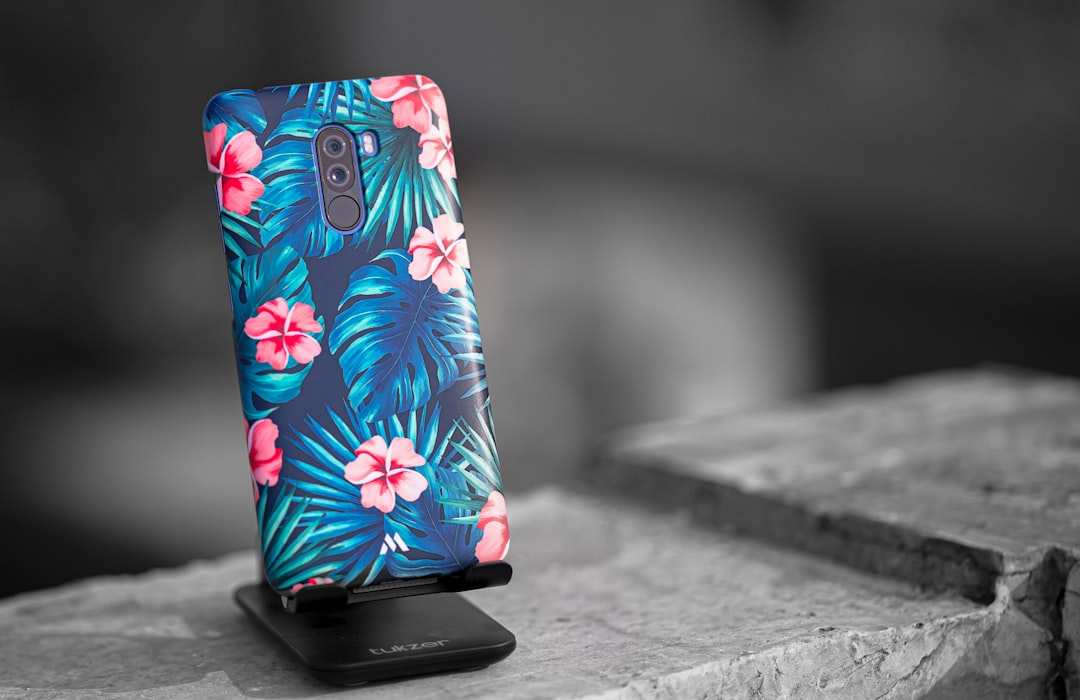phone: (203, 76, 510, 591)
